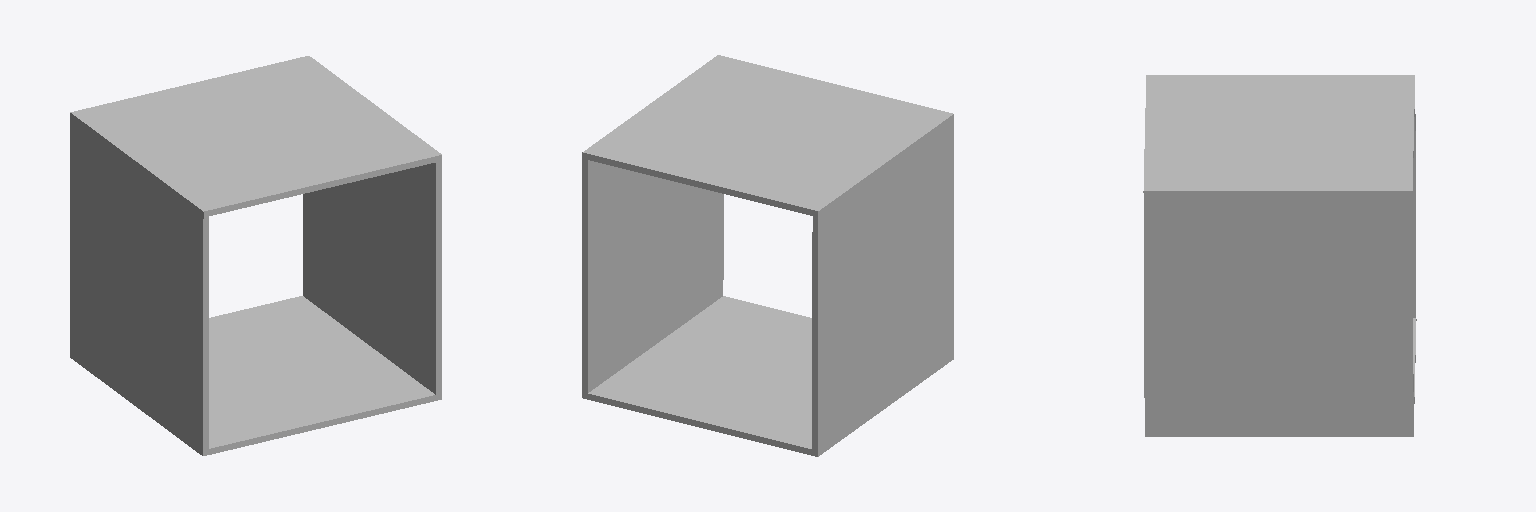
File: rectangle(side).obj
3 views of the same model, side by side, from view 1: azimuth 30°, elevation 25°; view 2: azimuth 150°, elevation 25°; view 3: azimuth 270°, elevation 25° (orthographic).
Parts seen in each view (by area): view 1: Tube12; view 2: Tube12; view 3: Tube12.
Part boxes in pixels (bbox=[...]): Tube12: bbox=[70, 56, 441, 455]; Tube12: bbox=[582, 55, 953, 456]; Tube12: bbox=[1143, 75, 1416, 436].
Bounding box in the file's own units: 1.02 × 1.01 × 1.01.